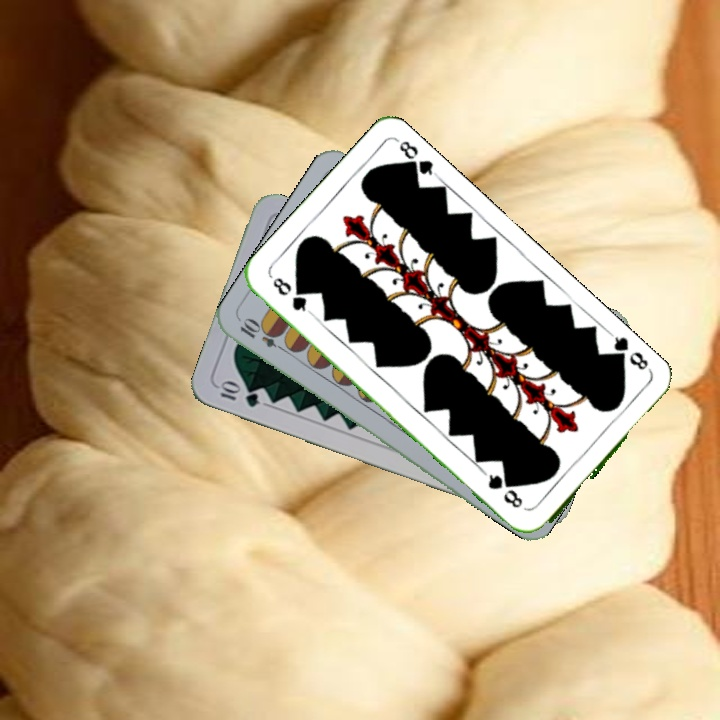E10: (235, 316, 291, 356)
G10: (214, 378, 262, 410)
G8: (606, 330, 655, 376), (268, 273, 315, 317)
